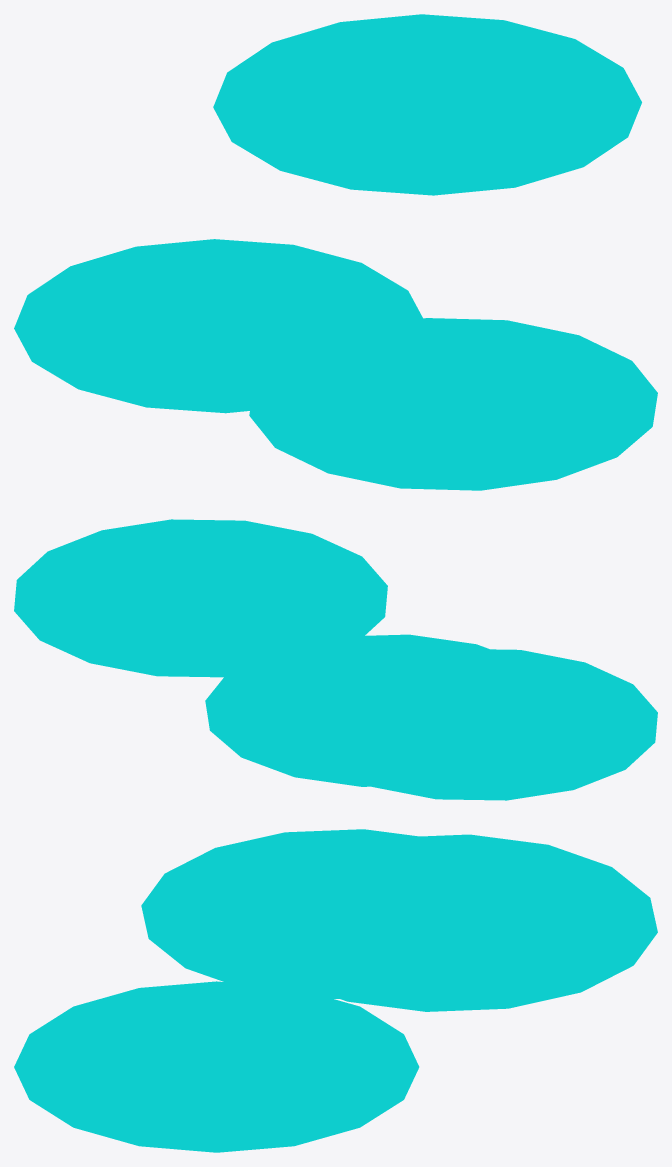
File: SM_Prop_Fountain_03_Insert_01.fbx
3 renders of one model, top to bottom at view 1: azimuth 30°, elevation 25°; view 2: azimuth 150°, elevation 25°; view 3: azimuth 270°, elevation 25°, orthographic. The views are drawn at different scales.
Parts seen in each view (by area): view 1: SM_Prop_Fountain_03_Insert_01; view 2: SM_Prop_Fountain_03_Insert_01; view 3: SM_Prop_Fountain_03_Insert_01.
Boxes of the visible parts, bbox=[...] form: SM_Prop_Fountain_03_Insert_01: bbox=[14, 14, 657, 490]; SM_Prop_Fountain_03_Insert_01: bbox=[14, 519, 657, 800]; SM_Prop_Fountain_03_Insert_01: bbox=[14, 829, 657, 1152].
Size of the model in its own units: 622 by 182 by 566.
